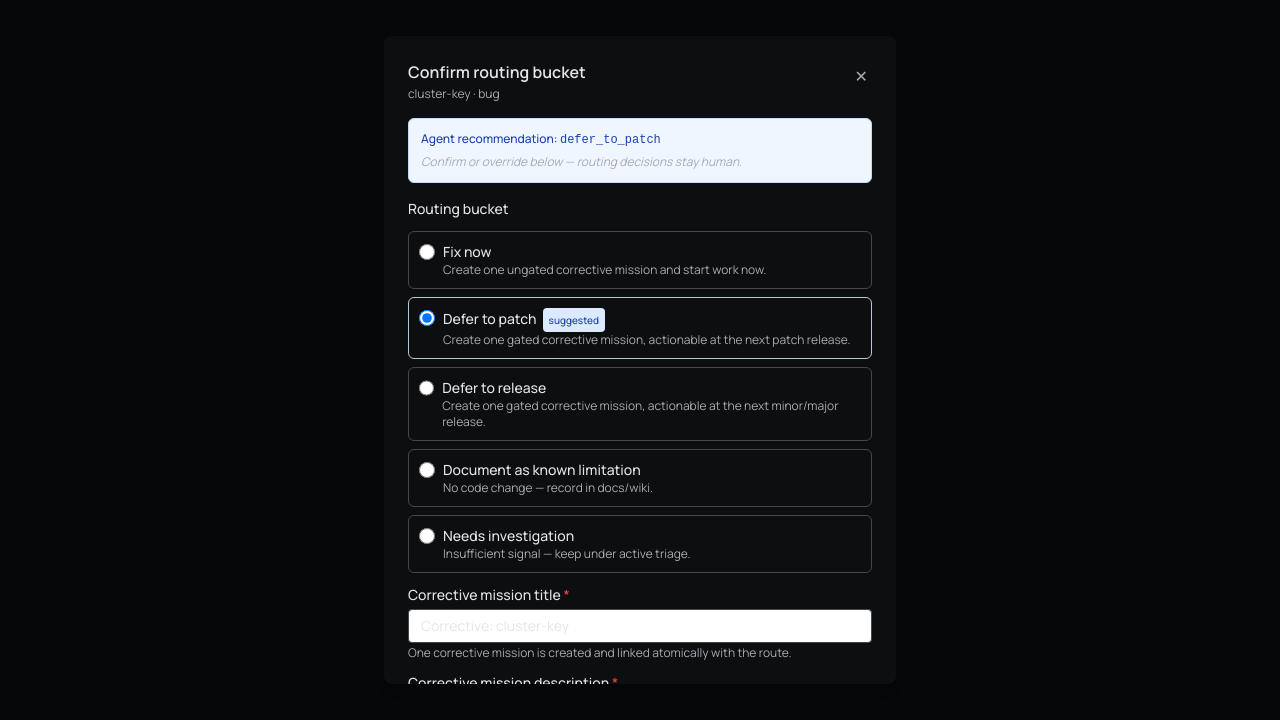
Test: BucketConfirmation — lifecycle route commands (restored lifecycle T8) › defer_to_patch only offers the patch gate; defer_to_release never offers patch
This screenshot has width=1280, height=720.
Click the text "Defer to release" at (494, 388), box [442,378,546,397]
(page scrolled)
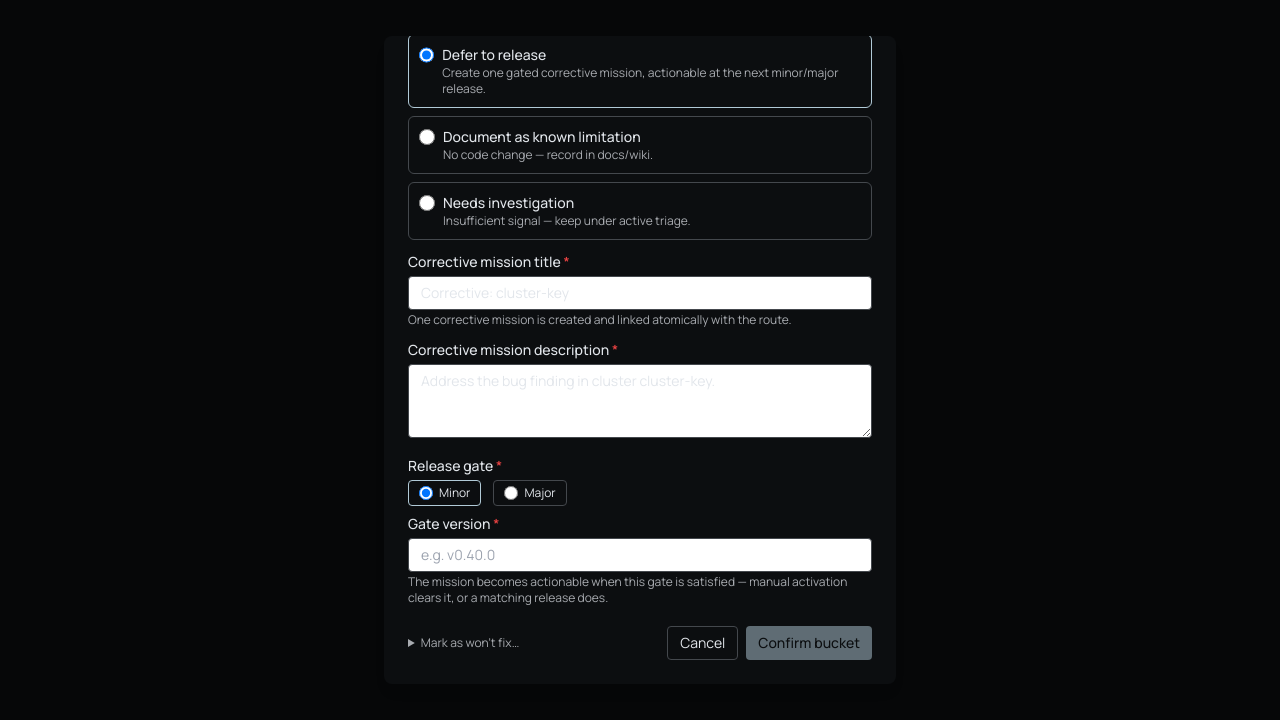
Expected: the radio button labelled "Minor" is checked, [419,486,433,500]
Expected: the radio button labelled "Major" is shown, [504,486,518,500]
